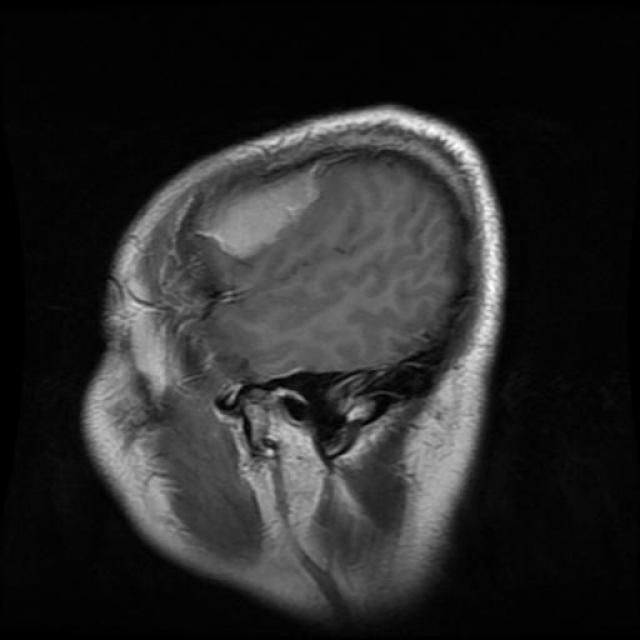Brain-Tumor: (185, 148, 340, 260)
